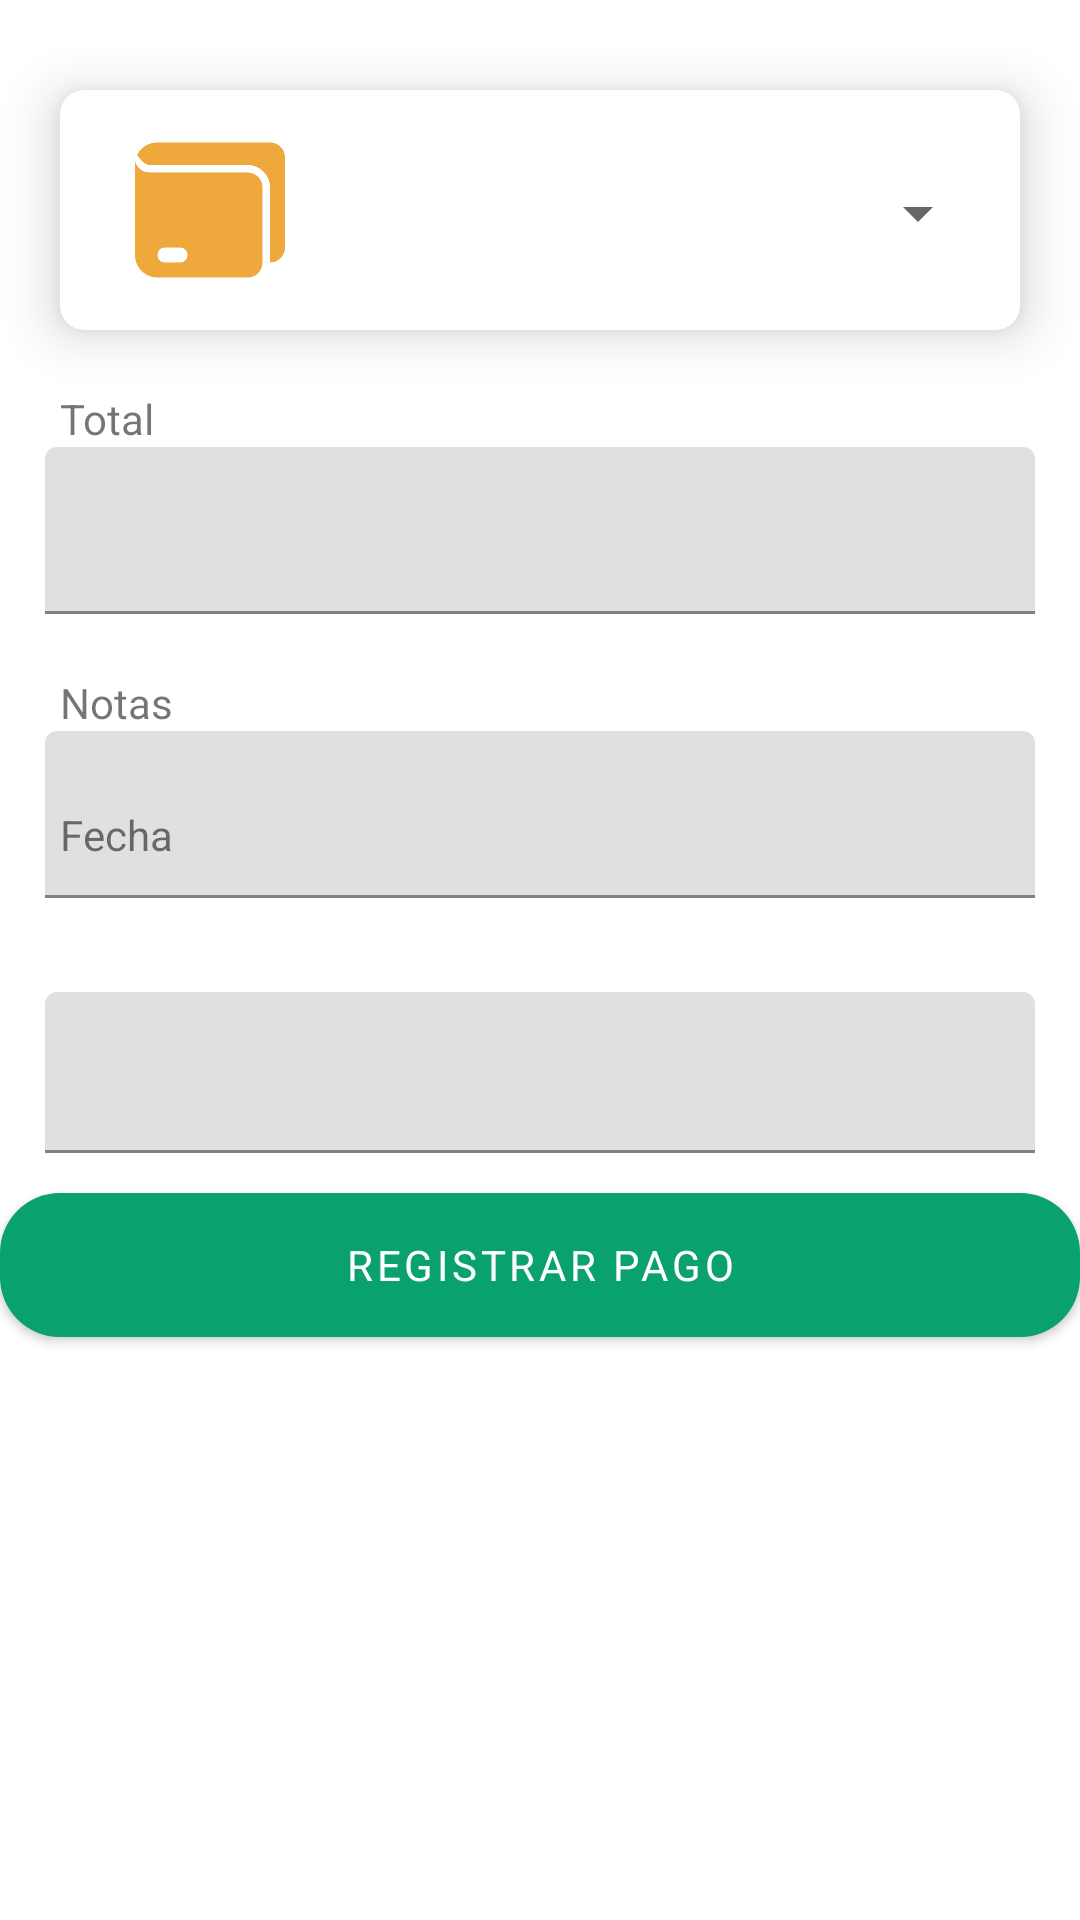

Where icons sit on this 1080px x 1920px app screen, as (x1=x1, y1=y1, x2=x2, y2=y2):
wallet: (x1=135, y1=142, x2=285, y2=278)
